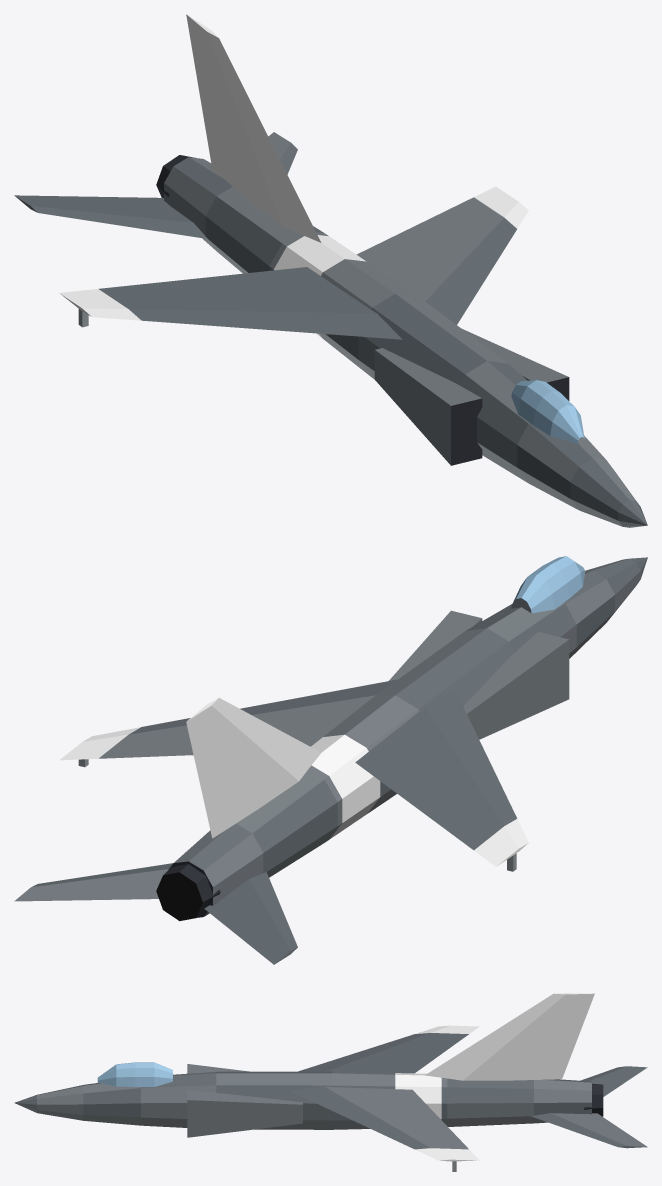
Rendered from mirage_f1c_lod.glb.
3 renders of one model, top to bottom at view 1: azimuth 30°, elevation 25°; view 2: azimuth 150°, elevation 25°; view 3: azimuth 270°, elevation 25°, orthographic. The views are drawn at different scales.
Parts seen in each view (by area): view 1: body; view 2: body; view 3: body.
Part boxes in pixels (x1=…): body: x1=14, y1=14, x2=647, y2=527; body: x1=14, y1=556, x2=647, y2=964; body: x1=14, y1=993, x2=647, y2=1171.
Size of the model in its own units: 8.4 by 3.92 by 16.78.
